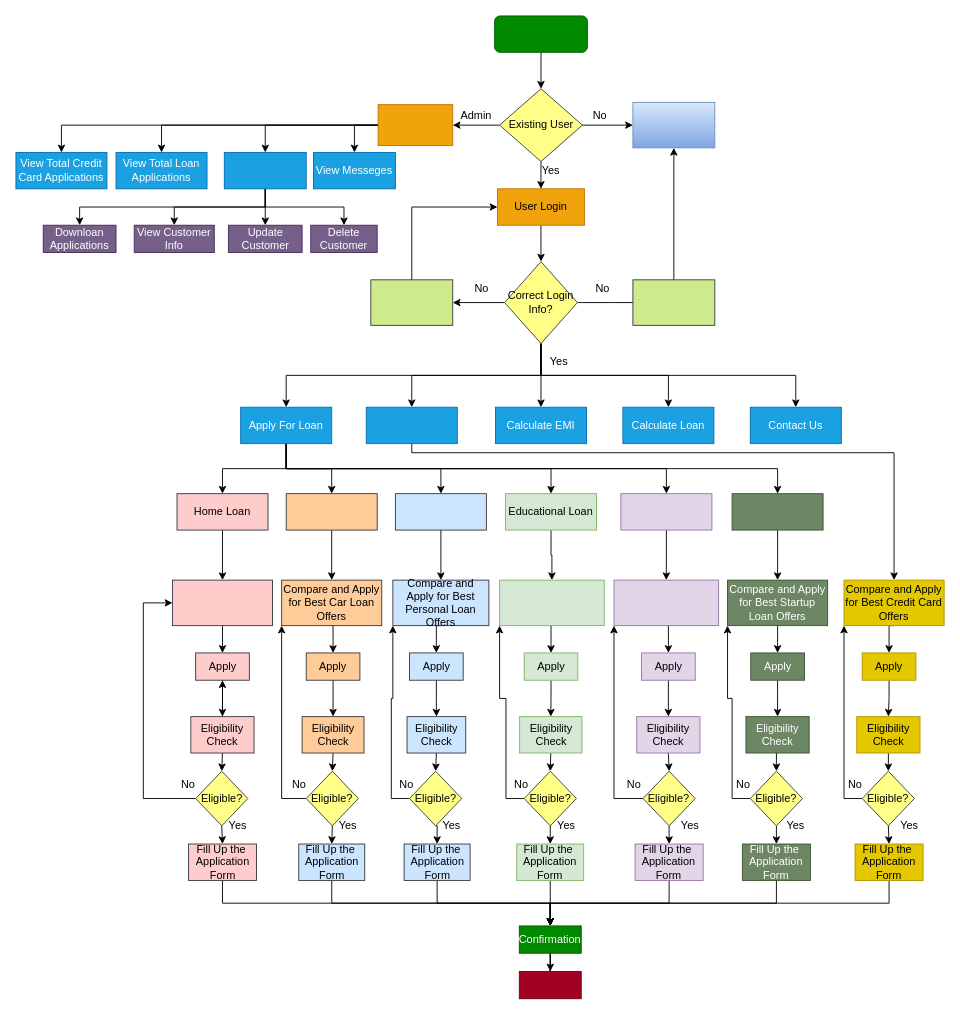
This 960x1015 diagram has some shape labels left out. Here are the shapes that lost their labels. From the top down, the centre of each, then its label:
pixel 540 33: Start
pixel 415 125: Admin Login
pixel 673 124: SignUp
pixel 264 170: View Customer
pixel 411 302: Reset Password
pixel 673 302: Don't have Account?
pixel 411 425: Apply For Credit Cards
pixel 331 511: Car Loan
pixel 440 511: Personal Loan
pixel 666 511: Loan Against property
pixel 777 511: Startup Loan
pixel 222 602: Compare and Apply for Best Home Loan Offers
pixel 551 602: Compare and Apply for Best Educational Loan Offers
pixel 666 602: Compare and Apply for Best Loan Aginst Property Offers
pixel 549 985: END
